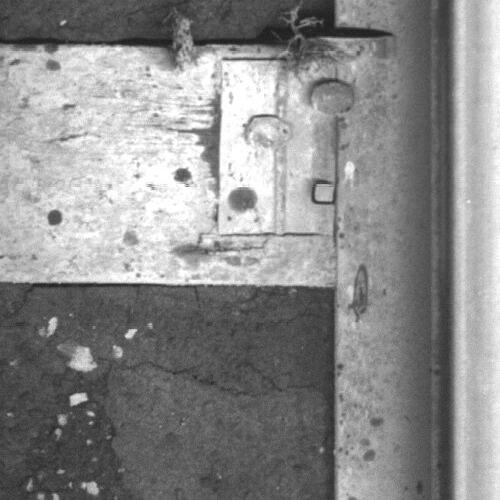crutch: (300, 31, 395, 56)
do: (221, 59, 356, 232)
rail: (451, 1, 500, 500)
tie_wood: (1, 45, 337, 288)
